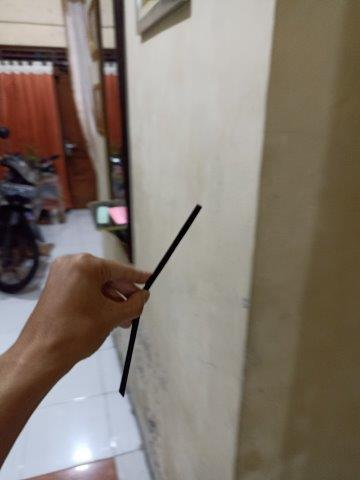sedotan: (119, 205, 202, 393)
